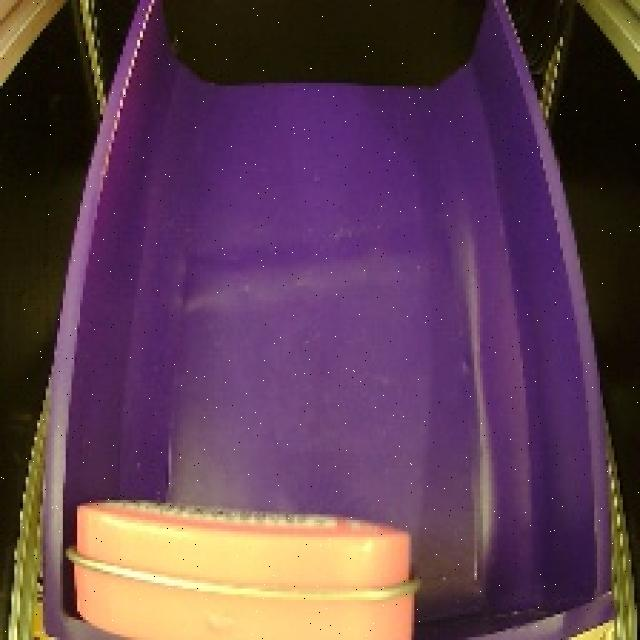metal: (61, 485, 429, 640)
